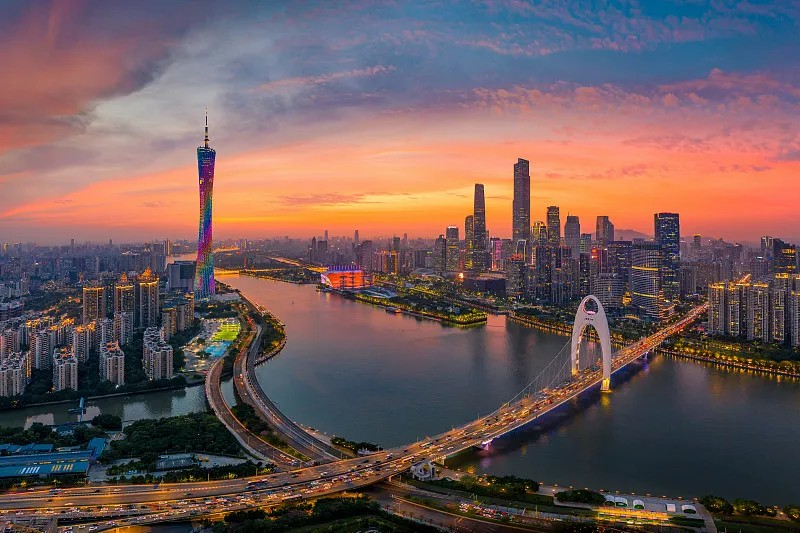Canton: (193, 106, 217, 300)
